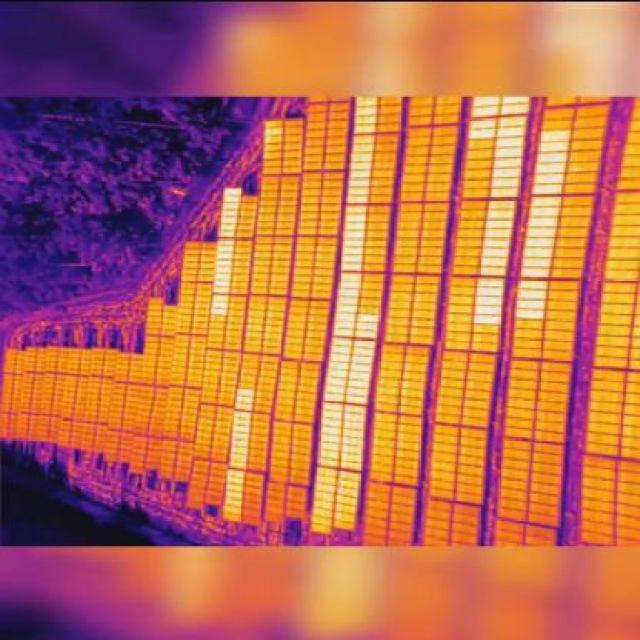diode: (533, 162, 564, 175), (536, 129, 570, 140), (496, 128, 524, 140), (499, 116, 527, 127), (479, 262, 506, 273), (528, 197, 560, 206), (470, 106, 496, 117), (537, 173, 563, 184), (537, 151, 568, 160), (526, 237, 557, 246), (352, 118, 383, 127), (536, 142, 570, 150), (528, 217, 558, 226), (348, 380, 370, 392), (492, 170, 520, 179), (533, 184, 561, 193), (520, 280, 548, 289), (517, 298, 545, 307), (475, 304, 500, 314), (528, 227, 555, 236), (524, 248, 551, 257), (519, 290, 546, 299), (479, 277, 506, 286), (492, 151, 518, 160), (517, 308, 543, 317), (503, 104, 528, 113), (316, 488, 341, 497), (493, 140, 521, 148), (522, 259, 550, 267), (340, 258, 362, 268), (339, 484, 361, 494), (358, 316, 380, 326), (469, 130, 496, 138), (468, 120, 495, 128), (494, 160, 518, 169), (491, 190, 515, 199), (489, 210, 513, 219), (482, 247, 506, 256), (522, 267, 546, 276), (352, 108, 376, 117), (347, 170, 371, 179), (338, 480, 362, 489), (354, 344, 375, 354), (222, 506, 243, 516), (503, 96, 529, 104), (480, 256, 506, 264), (476, 296, 502, 304), (474, 313, 500, 321), (482, 236, 507, 244), (350, 154, 372, 163), (332, 357, 354, 366), (326, 392, 348, 401), (322, 413, 344, 422), (339, 457, 361, 466), (472, 96, 496, 104), (489, 220, 513, 228), (478, 287, 502, 295), (314, 496, 338, 504), (352, 372, 371, 382), (345, 424, 364, 434), (338, 512, 357, 522), (488, 201, 515, 208), (488, 227, 509, 236), (532, 208, 559, 215), (338, 280, 359, 289), (347, 416, 365, 426), (317, 454, 335, 464), (315, 504, 333, 514), (347, 408, 365, 418), (352, 127, 374, 135), (340, 250, 362, 258), (333, 322, 355, 330), (325, 376, 347, 384), (349, 397, 371, 405), (316, 462, 338, 470), (265, 133, 284, 142), (322, 430, 341, 439), (342, 461, 361, 470), (339, 503, 358, 512), (492, 182, 516, 189), (354, 99, 378, 106), (354, 331, 378, 338), (325, 405, 346, 413), (354, 368, 372, 377), (355, 360, 373, 369), (317, 471, 335, 480), (315, 514, 333, 523), (345, 214, 367, 221), (329, 368, 351, 375), (345, 223, 364, 231), (313, 522, 332, 530), (344, 434, 365, 441), (341, 275, 359, 283), (345, 449, 363, 457), (317, 480, 335, 488), (341, 496, 359, 504), (342, 442, 366, 448), (327, 383, 344, 391), (345, 241, 364, 248), (322, 422, 341, 429), (349, 162, 371, 168), (336, 308, 358, 314), (358, 326, 380, 332), (318, 448, 340, 454), (225, 494, 247, 500), (352, 136, 373, 142), (351, 146, 372, 152), (348, 180, 369, 186), (348, 188, 369, 194), (347, 206, 368, 212), (341, 291, 359, 298), (348, 392, 369, 398), (322, 440, 343, 446), (340, 472, 358, 479), (224, 202, 239, 210), (234, 436, 249, 444), (217, 253, 232, 261), (229, 471, 246, 478), (215, 246, 234, 252), (343, 233, 362, 239), (356, 352, 375, 358), (232, 444, 251, 450), (229, 462, 248, 468), (229, 479, 245, 486), (347, 196, 365, 202), (342, 268, 360, 274), (340, 301, 358, 307), (334, 333, 352, 339), (334, 341, 352, 347), (234, 421, 252, 427), (231, 453, 249, 459), (225, 488, 243, 494), (267, 127, 284, 133), (215, 281, 232, 287), (333, 348, 350, 354), (327, 394, 344, 400), (239, 388, 256, 394), (225, 501, 242, 507), (214, 301, 228, 308), (219, 240, 235, 246), (238, 397, 254, 403), (228, 187, 244, 193), (335, 316, 354, 321), (214, 294, 229, 300), (234, 428, 249, 434), (237, 413, 252, 419), (470, 94, 499, 97), (222, 218, 236, 224), (216, 288, 230, 294), (226, 196, 240, 202), (237, 404, 251, 410), (221, 224, 234, 230), (221, 232, 233, 238), (218, 267, 230, 273), (216, 275, 229, 280), (223, 212, 239, 216), (217, 261, 231, 265)
hotspot: (265, 122, 270, 128)
